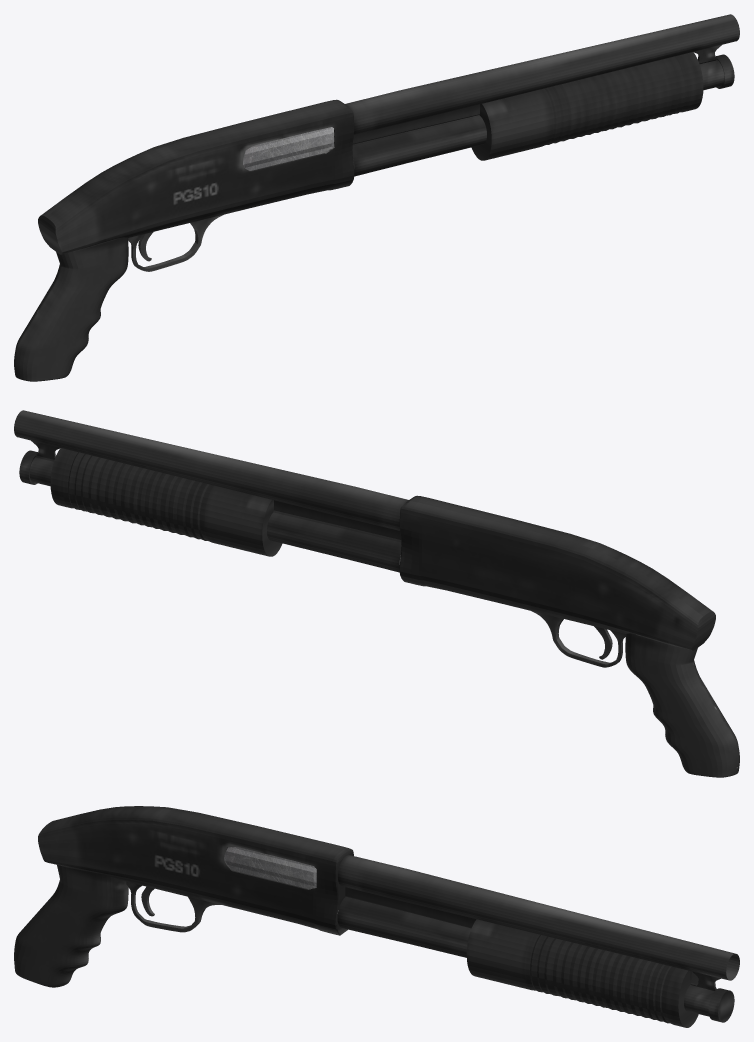
File: Shortgun.fbx
3 views of the same model, one above another, from view 1: azimuth 30°, elevation 25°; view 2: azimuth 150°, elevation 25°; view 3: azimuth 330°, elevation 25° (orthographic).
Parts seen in each view (by area): view 1: Cube.002, Cylinder.002; view 2: Cube.002, Cylinder.002; view 3: Cube.002, Cylinder.002.
Part boxes in pixels (x1,y1,x2,y2): Cube.002: (14, 14, 739, 381); Cylinder.002: (471, 52, 703, 160); Cube.002: (14, 410, 739, 777); Cylinder.002: (50, 448, 282, 556); Cube.002: (14, 806, 739, 1022); Cylinder.002: (466, 919, 698, 1027).
Size of the model in its own units: 962 by 259 by 58.04.
